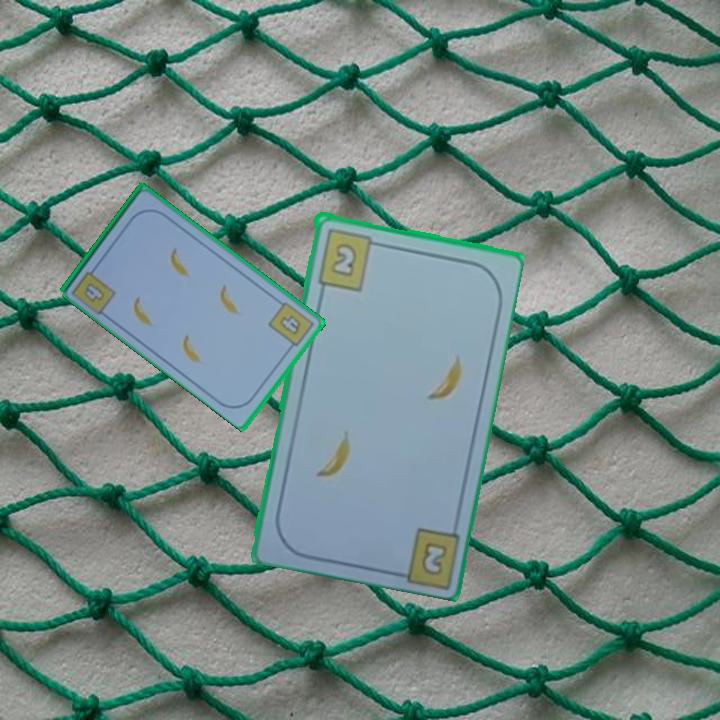2b: (313, 224, 384, 293), (417, 537, 450, 579)
4b: (265, 298, 317, 354), (81, 279, 108, 305)
